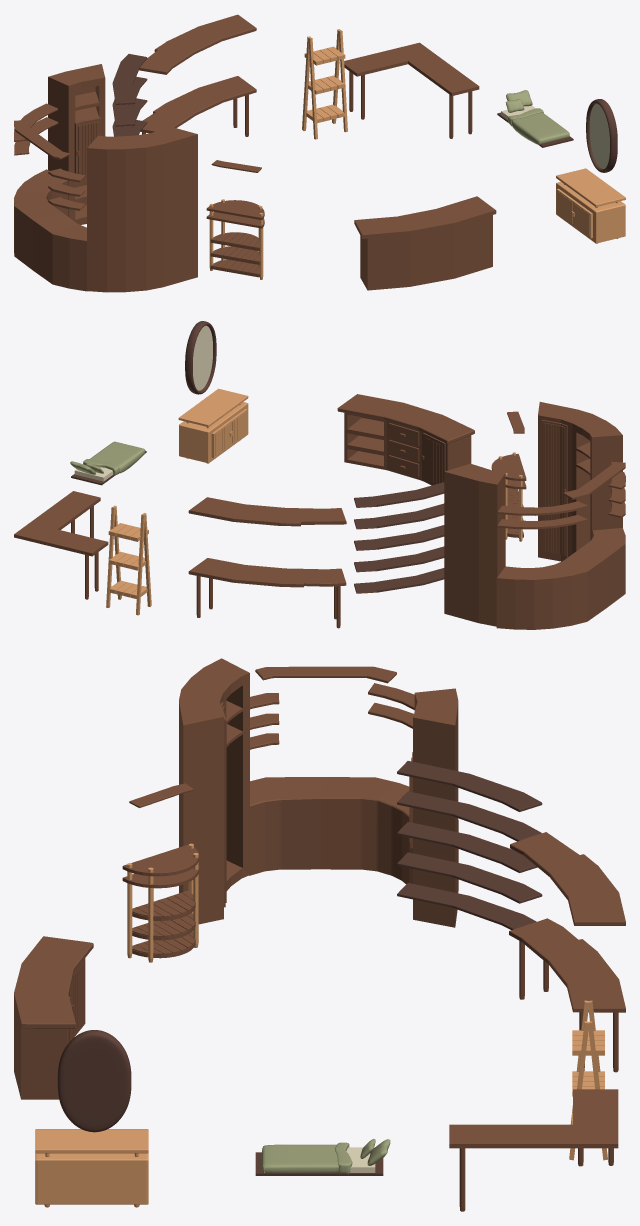
The model's file is 02_Furniture.fbx.
3 renders of one model, top to bottom at view 1: azimuth 30°, elevation 25°; view 2: azimuth 150°, elevation 25°; view 3: azimuth 270°, elevation 25°, orthographic. The views are drawn at different scales.
Visible parts, largest first — view 1: NicheWardrobe, DresserL, NicheTable, BottomTable, ShelfRSingle, TableR, ShelfRMultiple, Plane.023, Cube.030, Bed.004, DressingTable, LadderShelf (+11 smaller); view 2: NicheWardrobe, NicheTable, ShelfRMultiple, DresserL, BottomTable, TableR, ShelfRSingle, NicheWallShelfR.005, Plane.023, Cube.030, DressingTable, LadderShelf (+14 smaller); view 3: NicheWardrobe, NicheTable, ShelfRMultiple, DresserL, Mirror, Plane.023, BottomTable, TableR, ShelfRSingle, DressingTable, Bed.004, NicheShelves (+7 smaller).
Boxes of the visible parts, x1,y1,x2,y2 form: NicheWardrobe: (48, 64, 197, 292); DresserL: (354, 196, 496, 290); NicheTable: (14, 169, 87, 291); BottomTable: (344, 42, 479, 95); ShelfRSingle: (139, 14, 256, 74); TableR: (140, 76, 256, 133); ShelfRMultiple: (112, 54, 147, 136); Plane.023: (556, 182, 625, 243); Cube.030: (302, 29, 347, 139); Bed.004: (508, 108, 569, 144); DressingTable: (556, 168, 625, 206); LadderShelf: (304, 46, 345, 122); NicheWardrobe: (444, 402, 622, 626); NicheTable: (496, 528, 625, 629); ShelfRMultiple: (354, 482, 444, 593); DresserL: (337, 394, 474, 485); BottomTable: (14, 491, 108, 556); TableR: (188, 558, 346, 587); ShelfRSingle: (188, 497, 346, 526); NicheWallShelfR.005: (542, 422, 565, 555); Plane.023: (179, 402, 248, 463); Cube.030: (106, 505, 151, 615); DressingTable: (178, 388, 248, 427); LadderShelf: (108, 523, 148, 598); NicheWardrobe: (179, 658, 458, 927); NicheTable: (249, 777, 458, 890); ShelfRMultiple: (397, 761, 542, 929); DresserL: (14, 936, 93, 1099); Mirror: (57, 1030, 131, 1132); Plane.023: (35, 1153, 148, 1204); BottomTable: (449, 1089, 618, 1148); TableR: (509, 918, 625, 1012); ShelfRSingle: (510, 832, 625, 925); DressingTable: (35, 1129, 148, 1153); Bed.004: (262, 1142, 352, 1174); NicheShelves: (255, 666, 396, 683).
Bounding box in the file's own units: 859 × 266 × 622.
